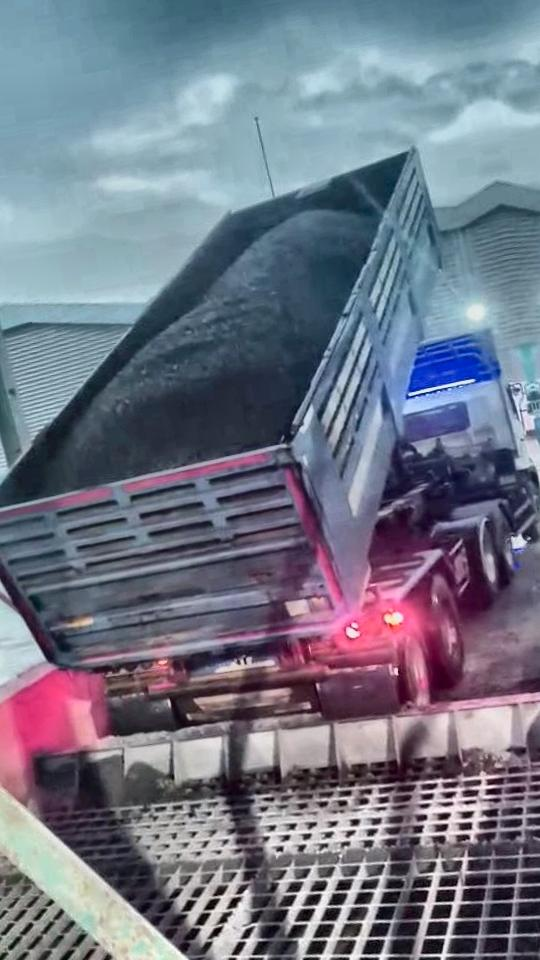gravel: (40, 211, 377, 496)
